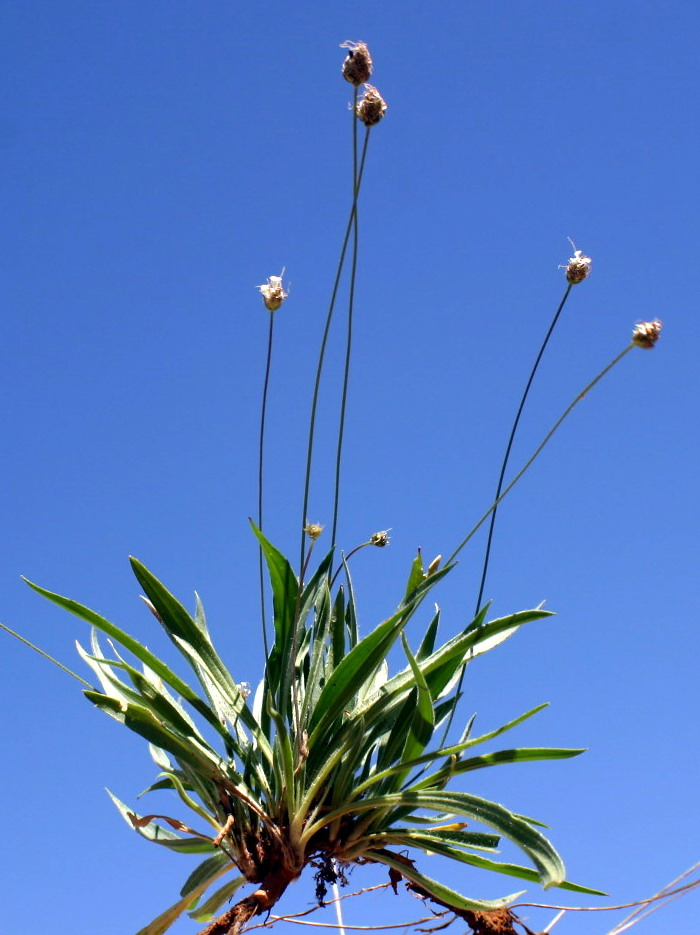buckhorn plantain: (63, 26, 658, 892)
